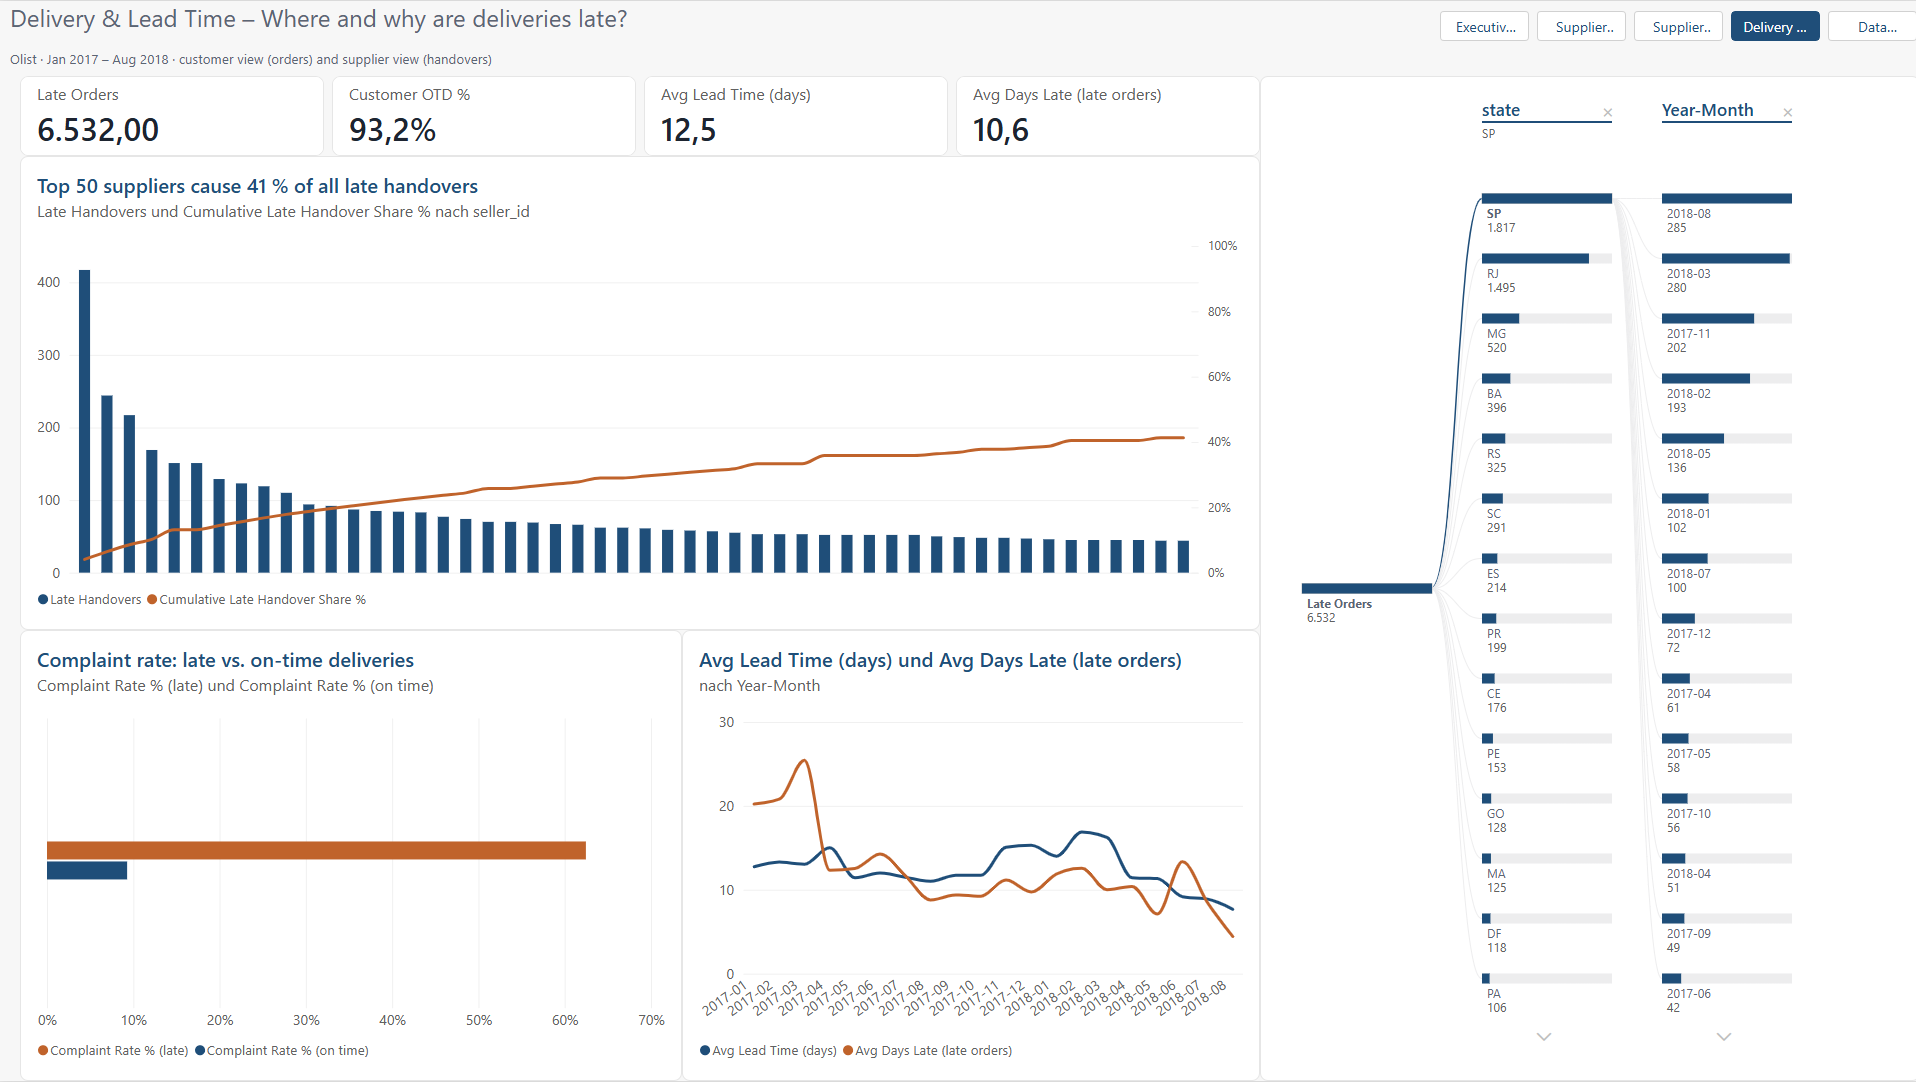

What the dashboard file says about the page in this screenshot:
{"tool":"powerbi","page":{"name":"Delivery & Lead Time","canvas":[1920,1080],"ordinal":3},"visuals":[{"type":"textbox","box":[10.1,0,1909.9,78.7],"z":0},{"type":"cardVisual","fields":{"Data":["_Measures.Late Orders","_Measures.Customer OTD %","_Measures.Avg Lead Time (days)","_Measures.Avg Days Late (late orders)"]},"box":[20,75,1240,80],"z":1},{"type":"lineClusteredColumnComboChart","title":"Top 50 suppliers cause 41 % of all late handovers","fields":{"Category":["dim_seller.seller_id"],"Y":["_Measures.Late Handovers"],"Y2":["_Measures.Cumulative Late Handover Share %"]},"box":[20.2,155.2,1239.5,473.5],"z":2},{"type":"clusteredBarChart","title":"Complaint rate: late vs. on-time deliveries","fields":{"Y":["_Measures.Complaint Rate % (late)","_Measures.Complaint Rate % (on time)"]},"box":[20.2,628.8,661.4,451],"z":3},{"type":"decompositionTreeVisual","fields":{"Analyze":["_Measures.Late Orders"],"ExplainBy":["dim_customer.state","dim_date.Year-Month"]},"box":[1260,75,660,1005],"z":4},{"type":"lineChart","fields":{"Category":["dim_date.Year-Month"],"Y":["_Measures.Avg Lead Time (days)","_Measures.Avg Days Late (late orders)"]},"box":[681.6,628.8,578.1,451],"z":5},{"type":"pageNavigator","box":[1439.7,10.1,480,30],"z":6}]}

Visuals, with their boxes in screenshot pixels (x1, y1, x2, y2), scaled from the page's 1920x1080 canvas onto the 1916x1082 screenshot:
textbox: crop(10, 0, 1915, 79)
cardVisual - _Measures.Late Orders x _Measures.Customer OTD %: crop(20, 75, 1257, 155)
"Top 50 suppliers cause 41 % of all late handovers" lineClusteredColumnComboChart: crop(20, 155, 1257, 630)
"Complaint rate: late vs. on-time deliveries" clusteredBarChart: crop(20, 630, 680, 1081)
decompositionTreeVisual - _Measures.Late Orders x dim_customer.state: crop(1257, 75, 1915, 1081)
lineChart - dim_date.Year-Month x _Measures.Avg Lead Time (days): crop(680, 630, 1257, 1081)
pageNavigator: crop(1437, 10, 1915, 40)
